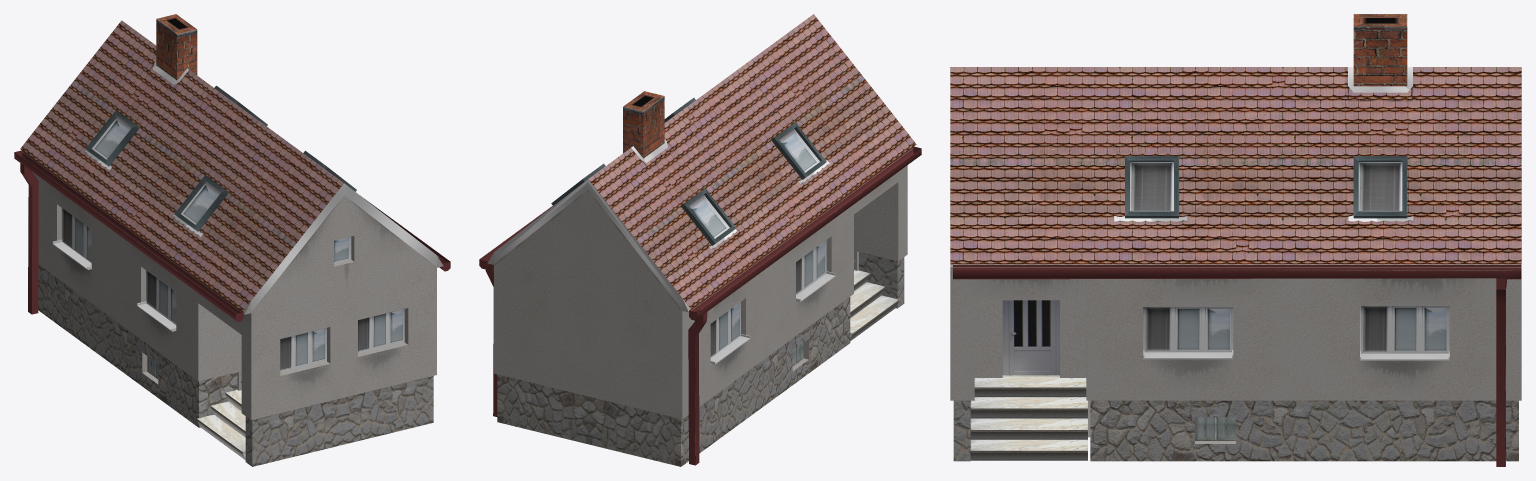
Rendered from european_house_1.glb.
3 renders of one model, left to right at view 1: azimuth 30°, elevation 25°; view 2: azimuth 150°, elevation 25°; view 3: azimuth 270°, elevation 25°, orthographic. The views are drawn at different scales.
Visible parts, largest first — view 1: Cube.000, Cube.001; view 2: Cube.000, Cube.001; view 3: Cube.000.
Boxes of the visible parts, x1,y1,x2,y2 form: Cube.000: (20,14,450,466); Cube.001: (14,150,243,321); Cube.000: (479,14,916,466); Cube.001: (689,146,921,324); Cube.000: (950,14,1521,466).
Bounding box in the file's own units: 2.37 × 3.16 × 4.25.
Materials: 2 (2 with a texture image).
